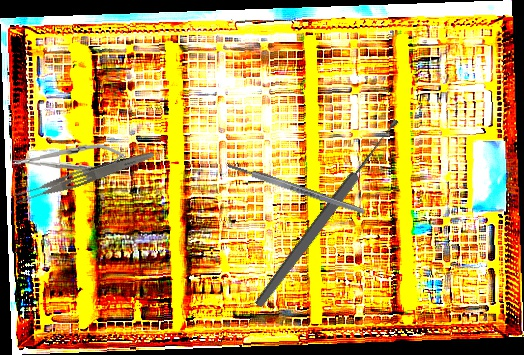Dressing Forceps: (13, 144, 156, 208)
Needle Holder: (11, 142, 127, 175)
Scalpel Handle: (225, 160, 367, 217)
Surgical Spoon: (252, 116, 403, 310)
